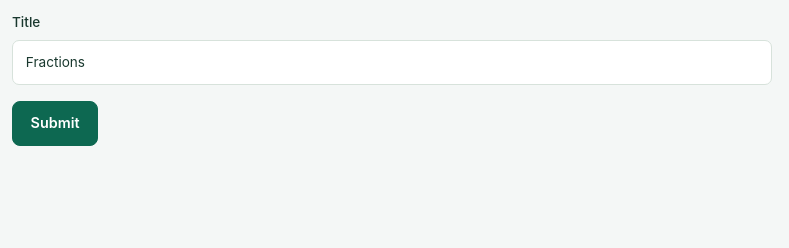
Test: real interface states › submits form values and confirms successful persistence
Step 1. Click the button "Submit" → click(55, 123), box left=12, top=101, right=98, bottom=146
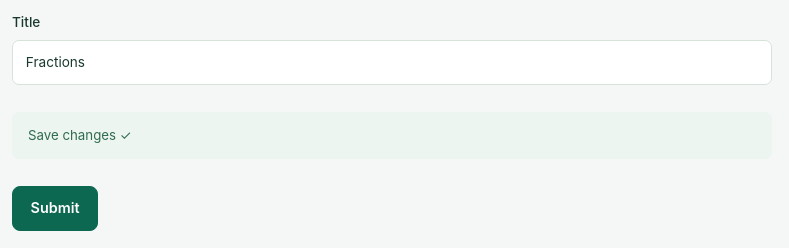
Result: the message shows "Save changes" at left=28, top=127, right=132, bottom=143
